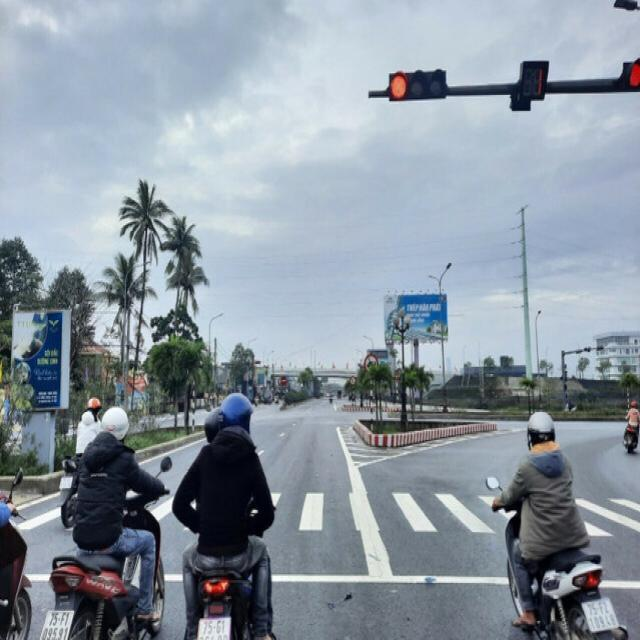Full-face-helmet: (523, 408, 559, 451)
